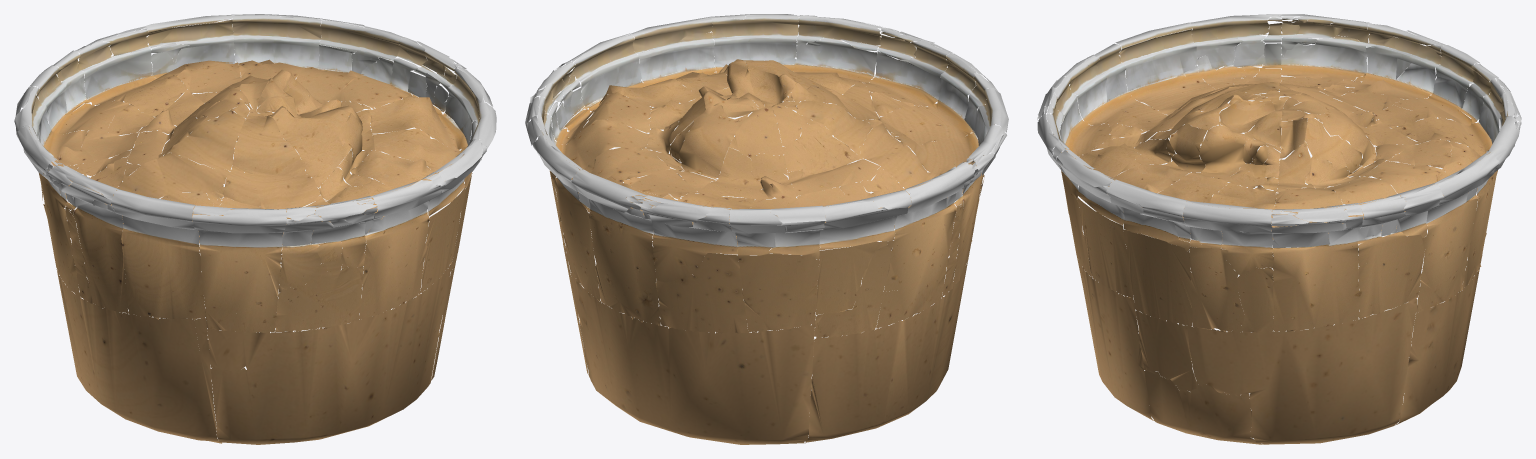
The model's file is sauce.glb.
The picture shows the model from 3 angles, left to right: view 1: azimuth 30°, elevation 25°; view 2: azimuth 150°, elevation 25°; view 3: azimuth 270°, elevation 25°; orthographic projection.
Visible parts, largest first — view 1: tripo_node_6188bf9f-6b4f-4e68-8449-c095ade1b6d4; view 2: tripo_node_6188bf9f-6b4f-4e68-8449-c095ade1b6d4; view 3: tripo_node_6188bf9f-6b4f-4e68-8449-c095ade1b6d4.
Boxes of the visible parts, x1=… form: tripo_node_6188bf9f-6b4f-4e68-8449-c095ade1b6d4: x1=14, y1=14, x2=496, y2=444; tripo_node_6188bf9f-6b4f-4e68-8449-c095ade1b6d4: x1=525, y1=14, x2=1008, y2=444; tripo_node_6188bf9f-6b4f-4e68-8449-c095ade1b6d4: x1=1037, y1=14, x2=1521, y2=444.
Size of the model in its own units: 0.9807 by 0.6327 by 0.9791.
1 material, 1 textured.
